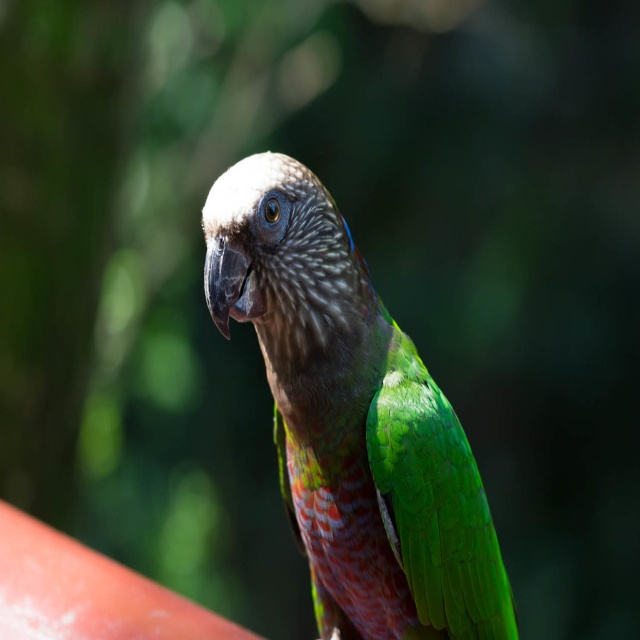Parrot: (200, 148, 518, 639)
